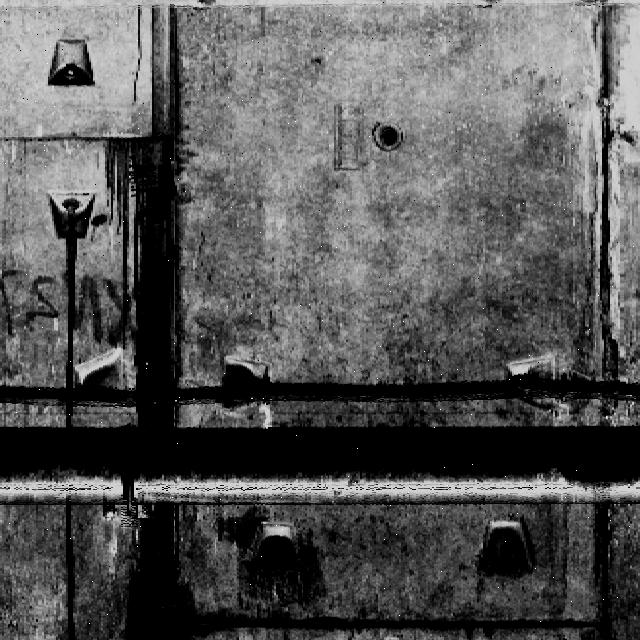leakage: (101, 104, 201, 426), (582, 0, 626, 417), (106, 498, 234, 639), (581, 487, 621, 638)
